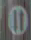Two way: (3, 3, 28, 38)
